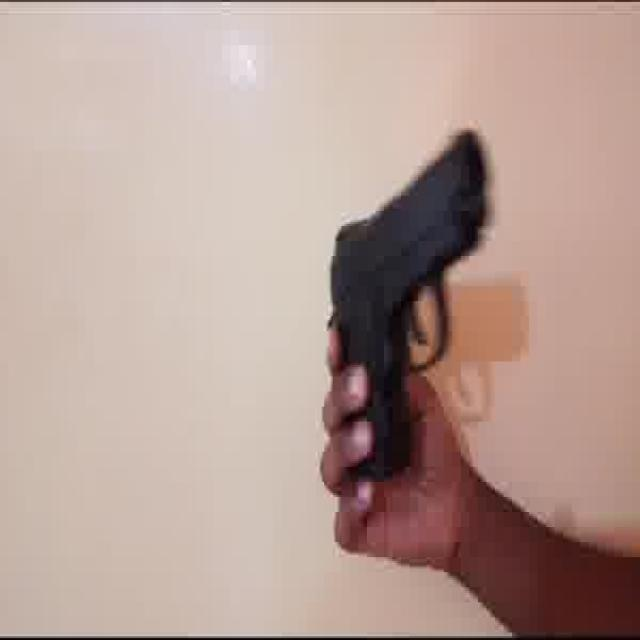weapon: (324, 126, 494, 512)
